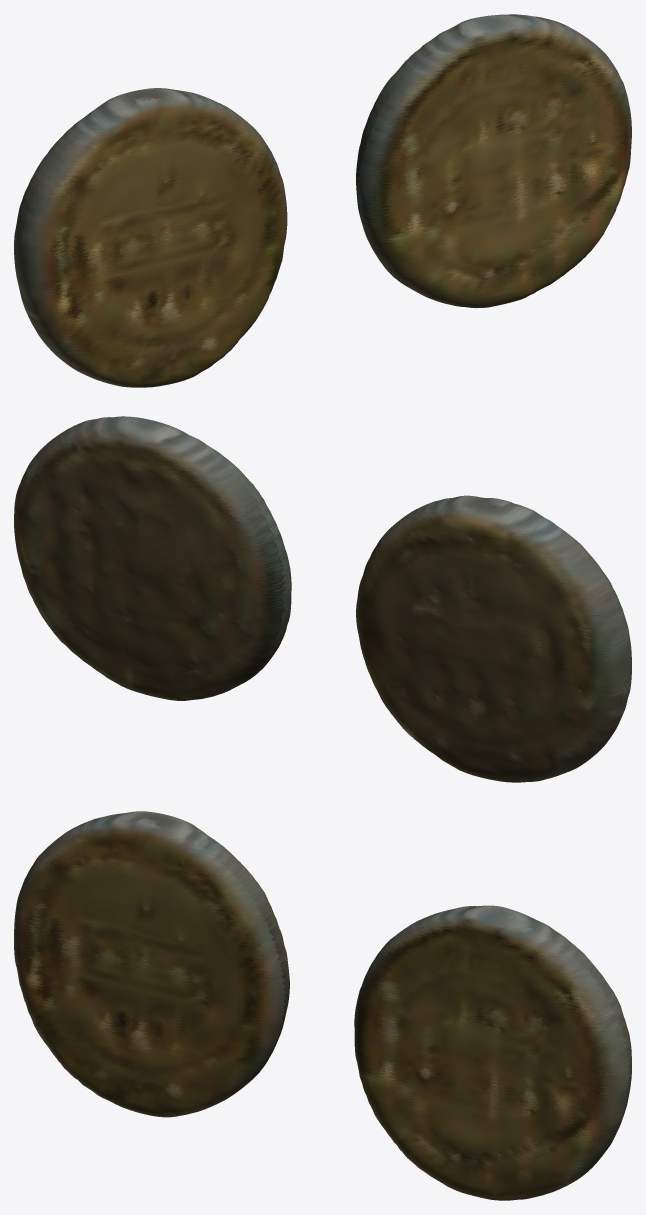
Rendered from kfl-2256.glb.
The picture shows the model from 3 angles, top to bottom: view 1: azimuth 30°, elevation 25°; view 2: azimuth 150°, elevation 25°; view 3: azimuth 330°, elevation 25°; orthographic projection.
Parts seen in each view (by area): view 1: geometry_0; view 2: geometry_0; view 3: geometry_0.
Part boxes in pixels (x1,y1,x2,y2): geometry_0: (14, 14, 631, 387); geometry_0: (14, 416, 631, 782); geometry_0: (14, 811, 631, 1200).
Size of the model in its own units: 0.9966 by 0.4395 by 0.1169.
1 material, 1 textured.
